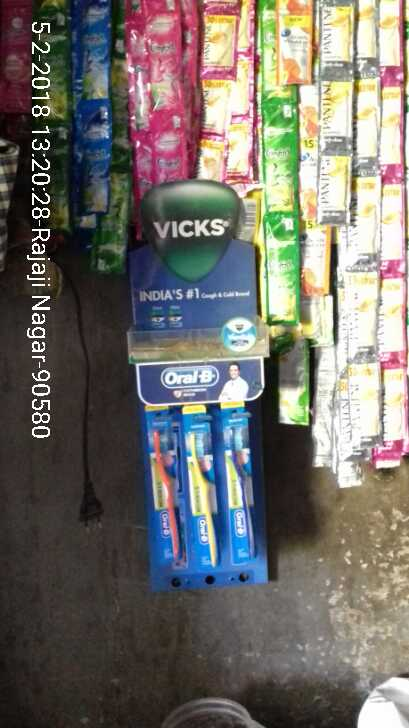oralb: (181, 401, 222, 568), (145, 401, 184, 572), (219, 397, 256, 560)
